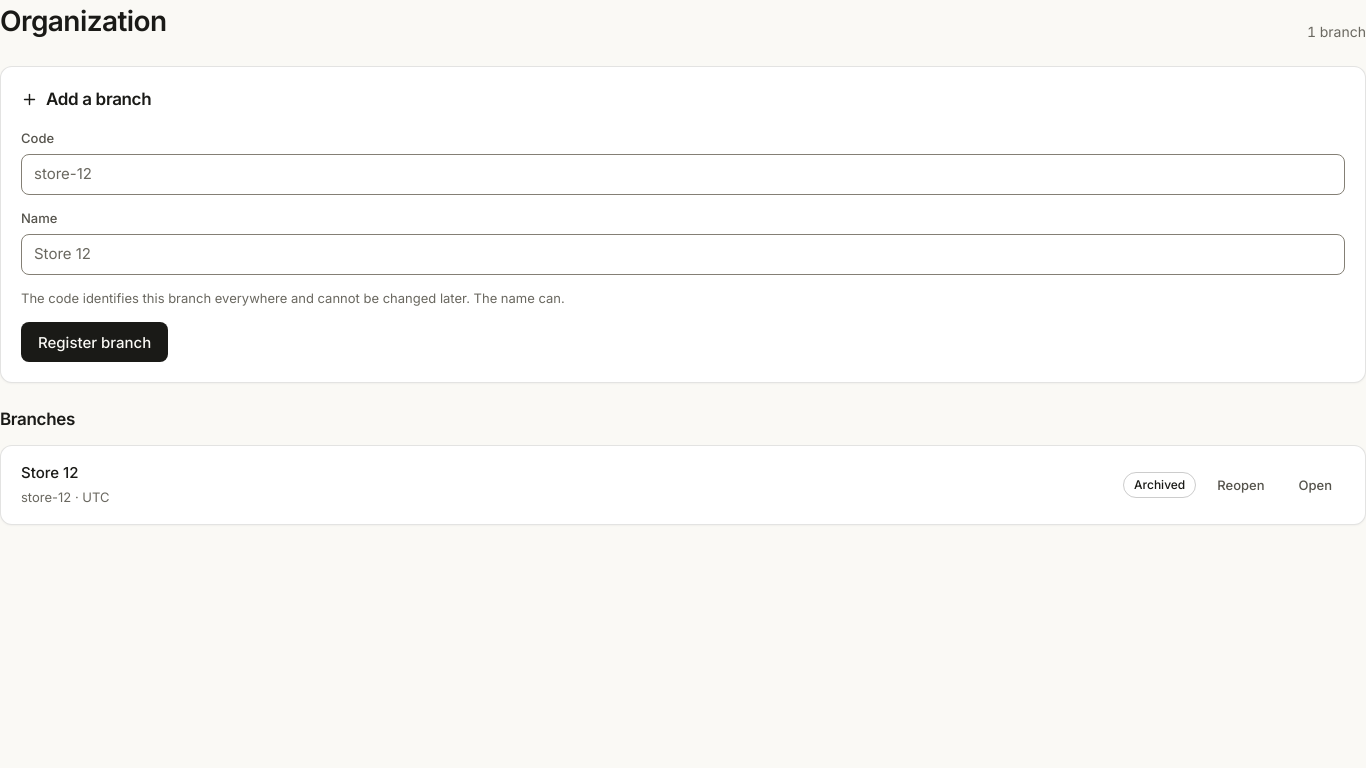
Scenario: OrganizationPage › explains that archiving a branch keeps what is inside it
Check: the text "Archived" is shown, box [1123,472,1196,498]
Step 1. Click the button "Open" → (1315, 484), box [1286,468,1345,500]
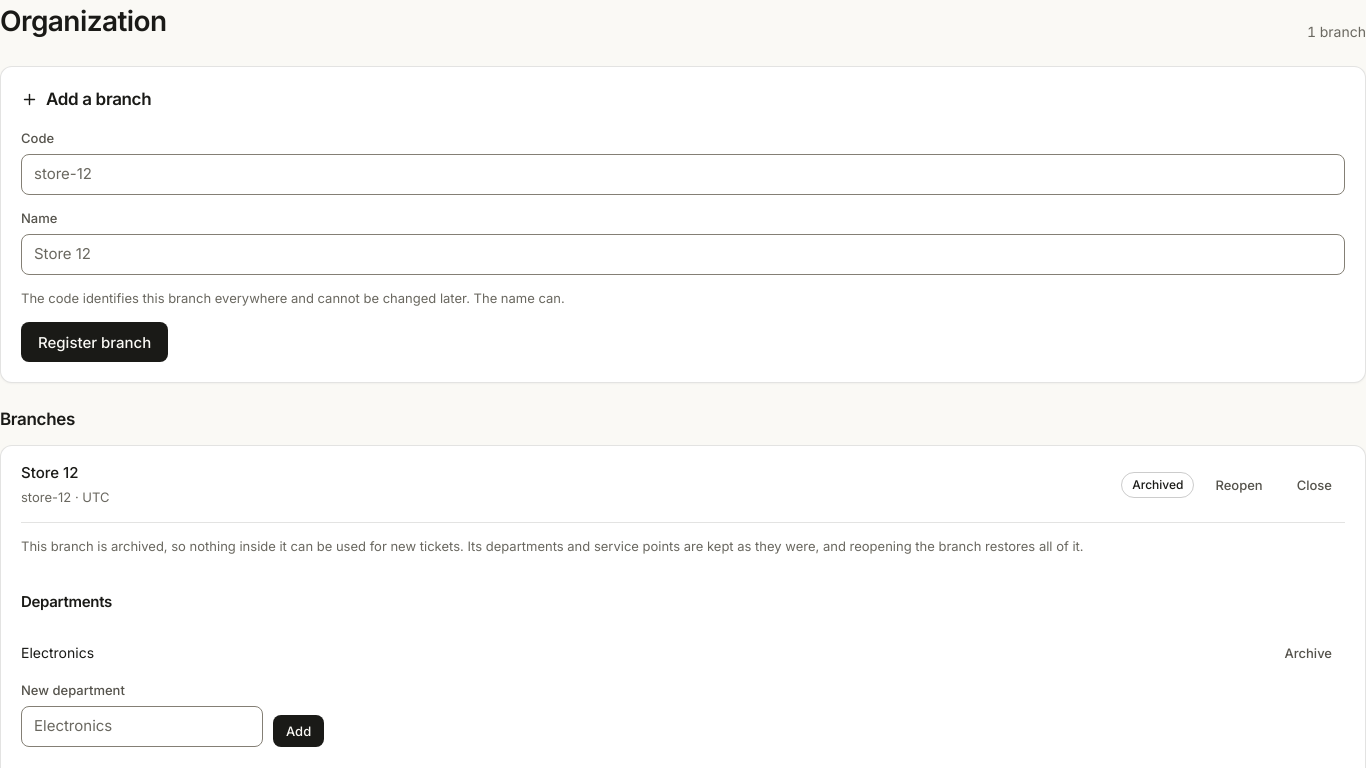
Check: the text "kept as they were" is shown, box [21,538,1084,554]
Check: the text "Electronics" is shown, box [21,642,94,663]
